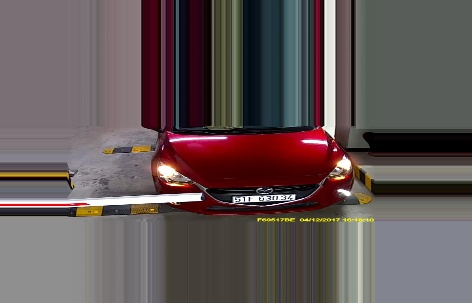plate: (230, 195, 294, 204)
